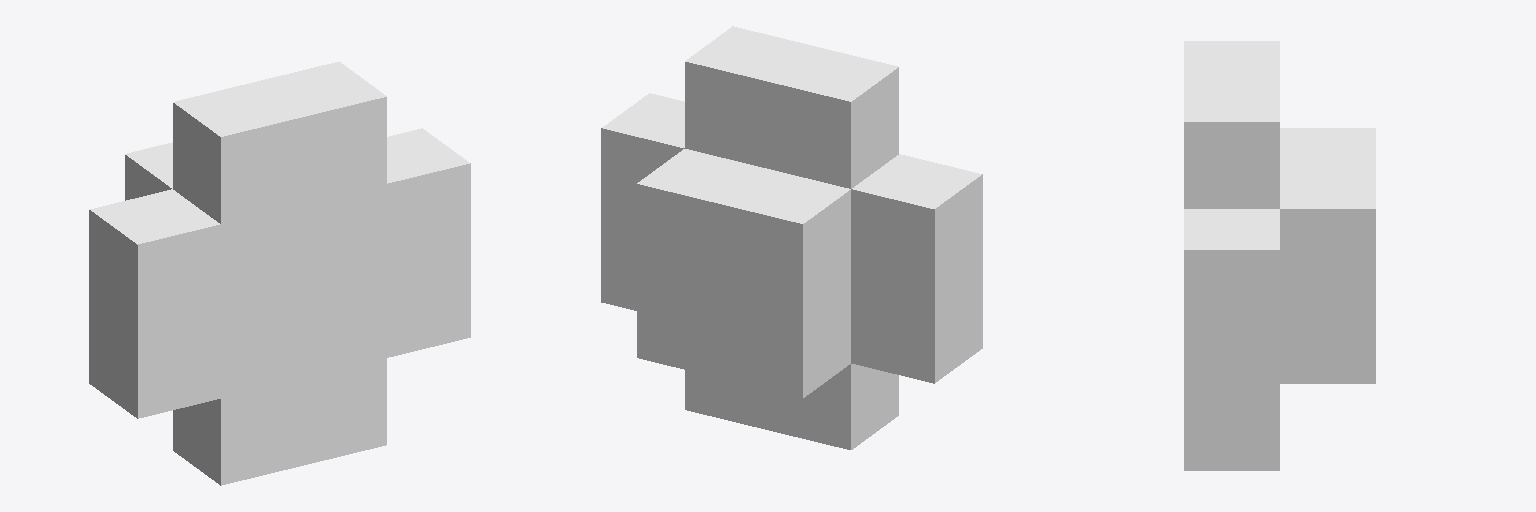
File: bankDoorHandSmall.obj
The picture shows the model from 3 angles: view 1: azimuth 30°, elevation 25°; view 2: azimuth 150°, elevation 25°; view 3: azimuth 270°, elevation 25°; orthographic projection.
Visible parts, largest first — view 1: object 1; view 2: object 1; view 3: object 1.
Part boxes in pixels (x1,y1,x2,y2): object 1: (89,62,470,485); object 1: (601,26,982,449); object 1: (1184,41,1375,470).
Size of the model in its own units: 0.4 by 0.4 by 0.2.